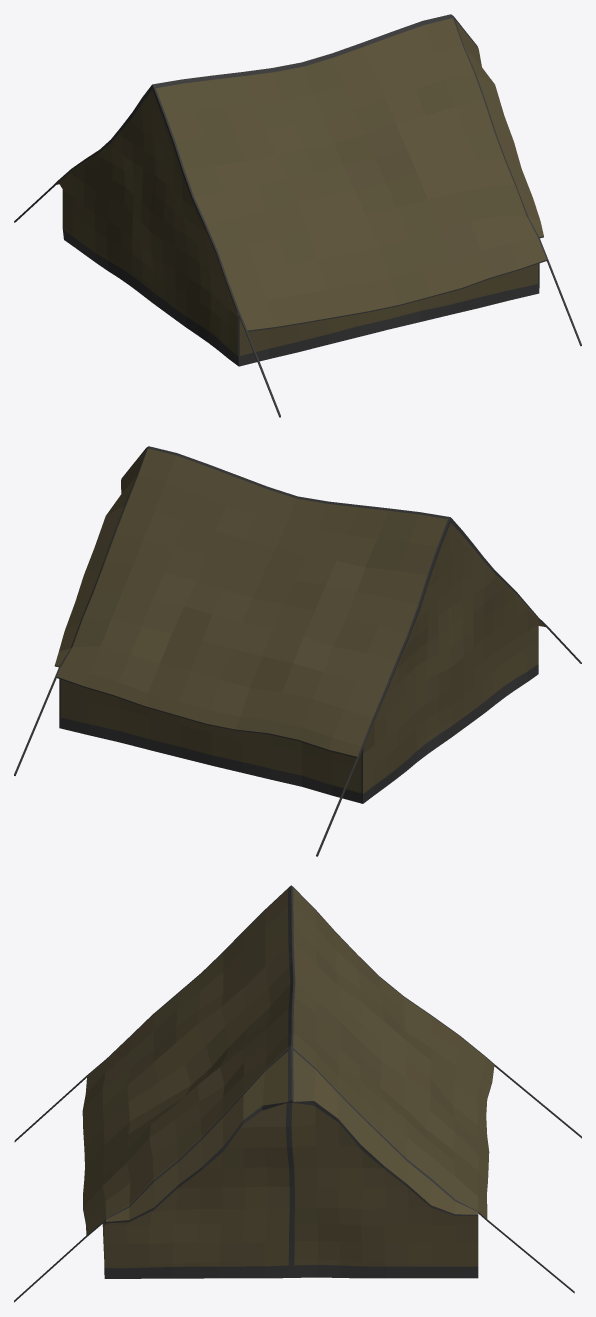
Rendered from tent6.fbx.
3 views of the same model, one above another, from view 1: azimuth 30°, elevation 25°; view 2: azimuth 150°, elevation 25°; view 3: azimuth 270°, elevation 25° (orthographic). The views are drawn at different scales.
Parts seen in each view (by area): view 1: Cube; view 2: Cube; view 3: Cube.
Part boxes in pixels (x1,y1,x2,y2): Cube: (14, 14, 581, 417); Cube: (14, 446, 581, 856); Cube: (14, 885, 581, 1302).
Size of the model in its own units: 219 by 153 by 304.
